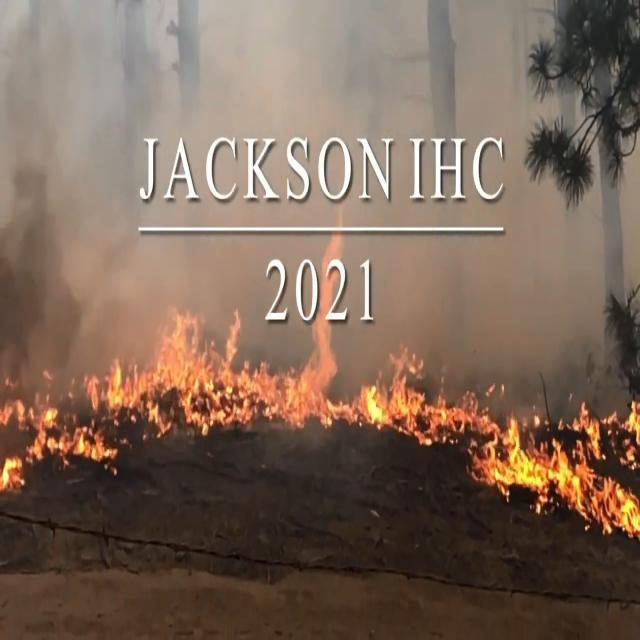Fire: (1, 284, 640, 545)
